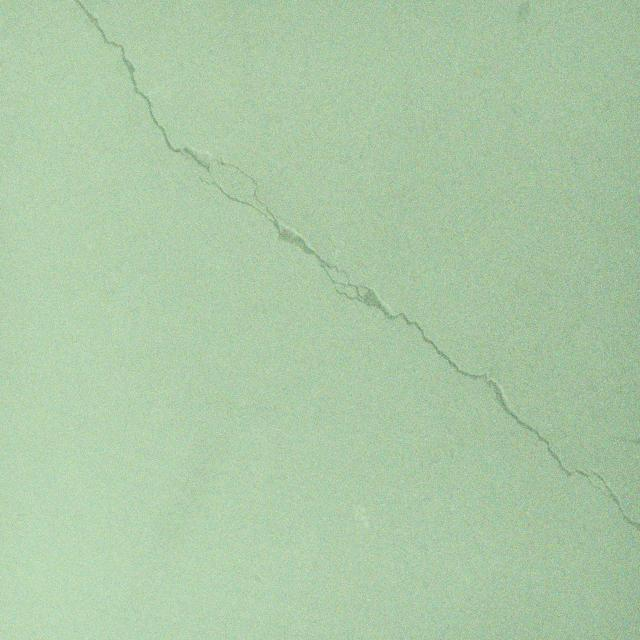crack: (72, 0, 640, 533)
